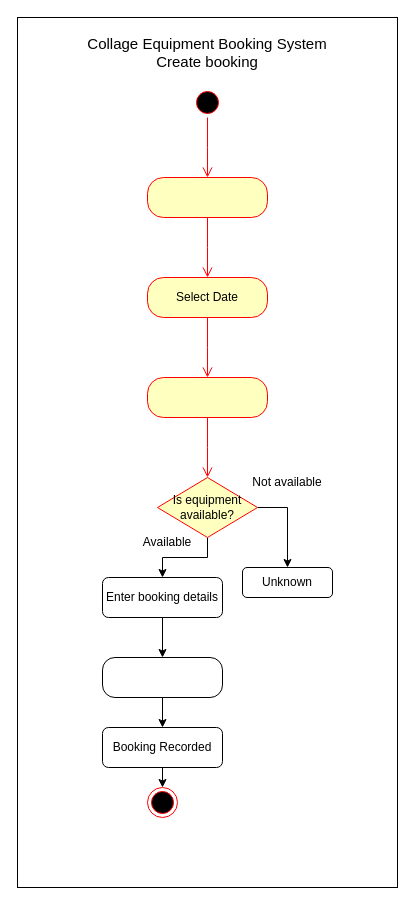
This 415x905 diagram has some shape labels left out. The centre of each missing label's shape, as x and y in pixels:
"Check Available" belongs at [207,397].
"Select Equipment" belongs at [207,197].
"Submit Booking" belongs at [162,677].
